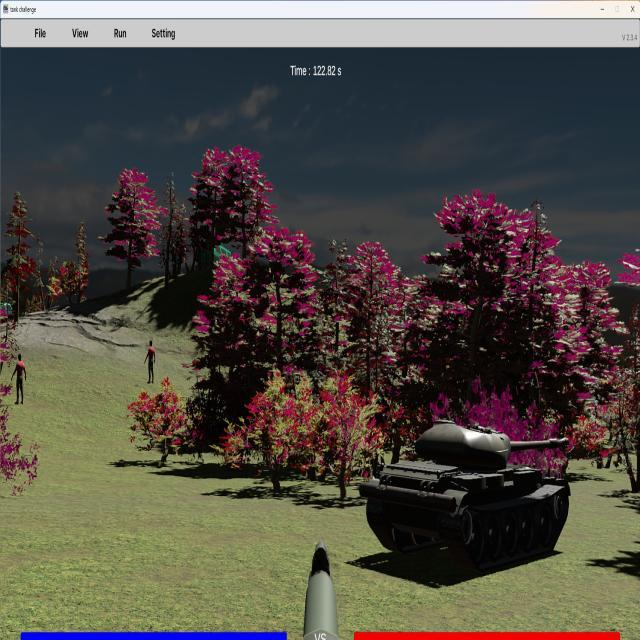Human: (11, 352, 27, 405), (144, 339, 156, 383)
Tank: (362, 416, 571, 574)
